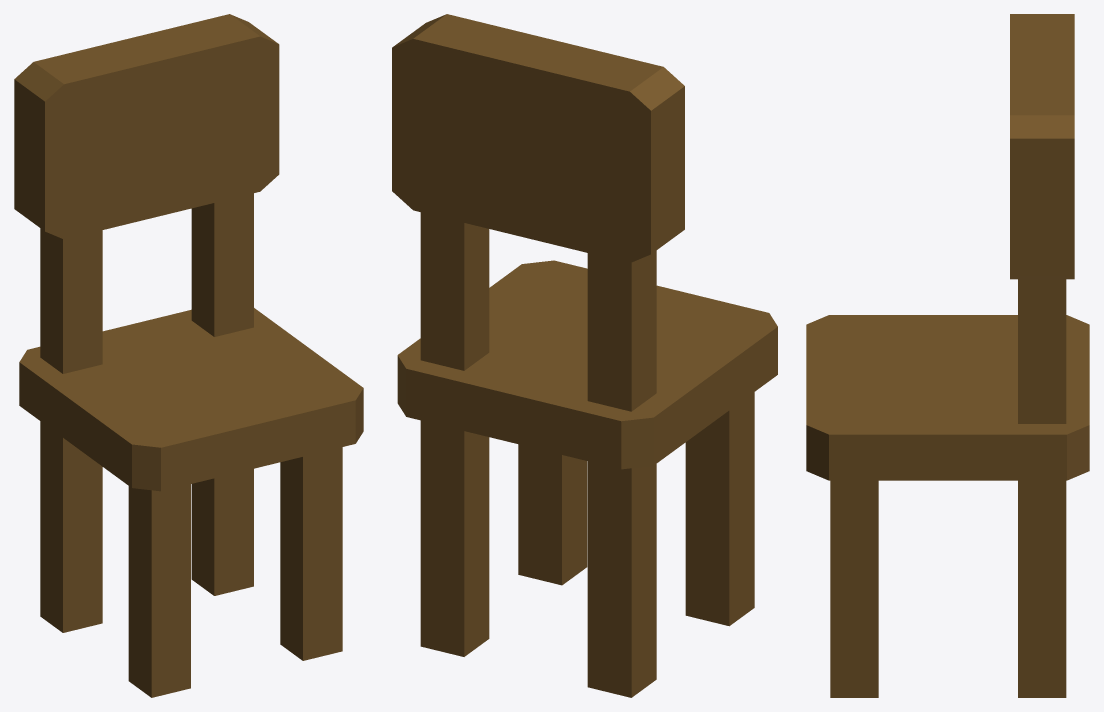
The picture shows the model from 3 angles, left to right: view 1: azimuth 30°, elevation 25°; view 2: azimuth 150°, elevation 25°; view 3: azimuth 270°, elevation 25°; orthographic projection. The views are drawn at different scales.
Parts seen in each view (by area): view 1: 02_イス; view 2: 02_イス; view 3: 02_イス.
Boxes of the visible parts, box(x1,y1,x2,y2) form: 02_イス: box(14, 14, 363, 697); 02_イス: box(392, 14, 777, 697); 02_イス: box(806, 14, 1089, 697).
Size of the model in its own units: 0.3035 by 0.683 by 0.3.
